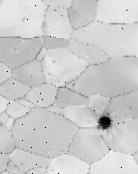good_void: (96, 111, 115, 135), (127, 104, 133, 110), (21, 16, 27, 21), (59, 13, 64, 18), (71, 82, 77, 86), (53, 8, 58, 12), (52, 59, 56, 64), (29, 74, 33, 79), (14, 47, 18, 52), (125, 8, 129, 12), (122, 120, 125, 124)
